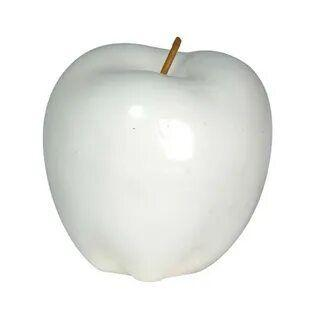Apple: (42, 41, 272, 282)
